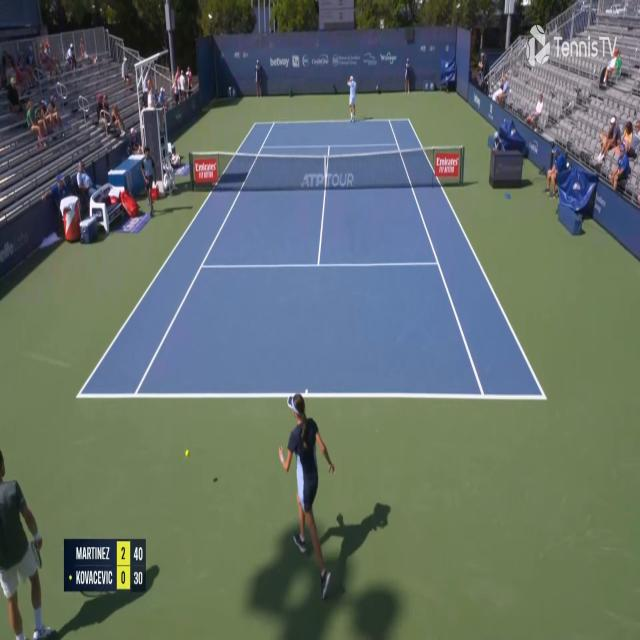tennis-player: (1, 444, 54, 640), (346, 74, 358, 123)
